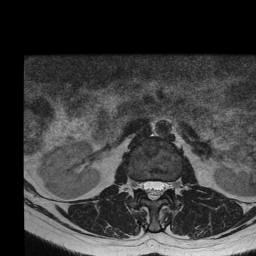CCS_normal: (149, 173, 156, 206)
LFS_normal: (165, 174, 174, 196)
LLS_normal: (156, 172, 165, 200)
RFS_normal: (134, 174, 142, 195)
RLS_normal: (142, 174, 149, 200)
